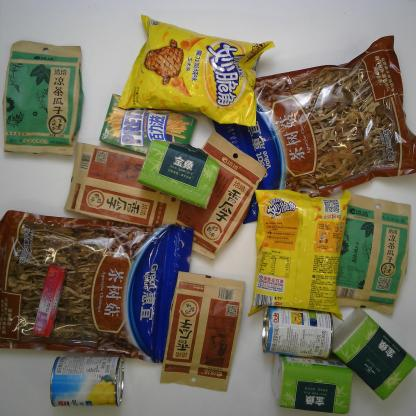Candy: (32, 263, 70, 339)
Canned Food: (261, 305, 334, 360), (49, 354, 123, 406)
Dessert: (98, 92, 198, 162)
Dried Food: (210, 33, 416, 225), (0, 211, 194, 363), (176, 130, 267, 262), (159, 270, 248, 394), (332, 190, 412, 315), (64, 141, 180, 227), (3, 39, 87, 156)
Puffed Food: (113, 13, 276, 126), (249, 184, 354, 321)
Tissue: (330, 307, 416, 401), (136, 137, 222, 211), (272, 352, 354, 416)
